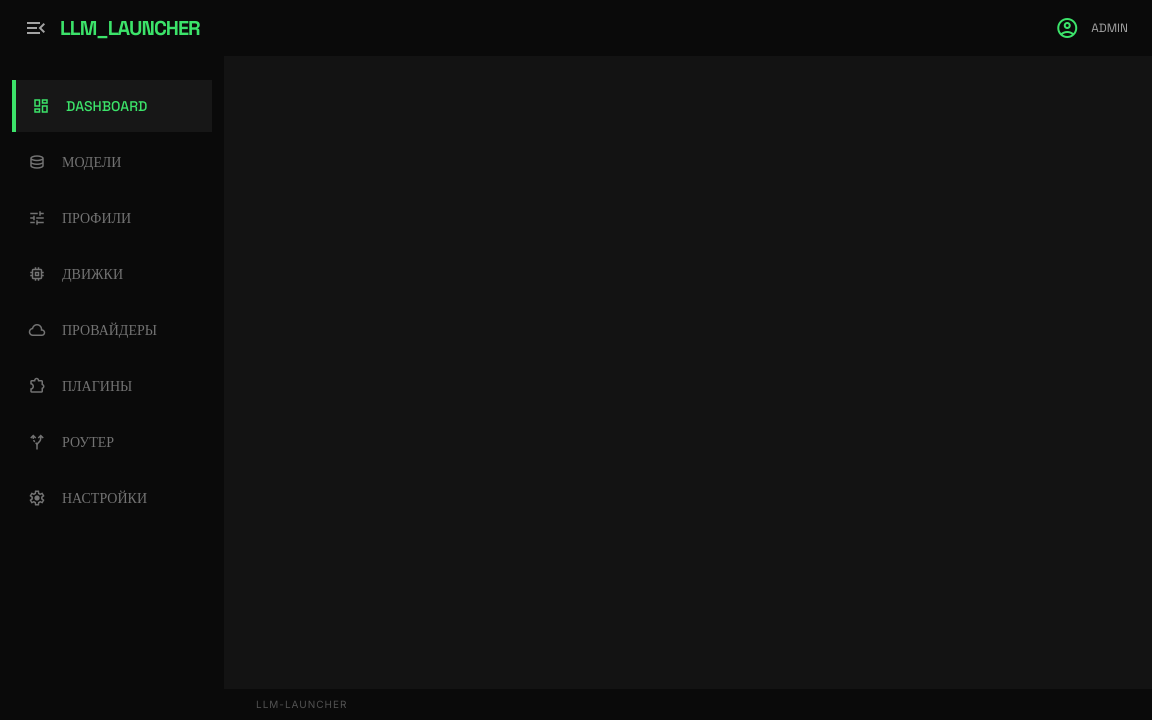
Test: Layout — сворачивание бокового меню › клик сворачивает: подписи исчезают, иконки остаются
Step 1. Click the button with test id "sidebar-toggle" → [36, 28], box x1=24 y1=16 x2=48 y2=40
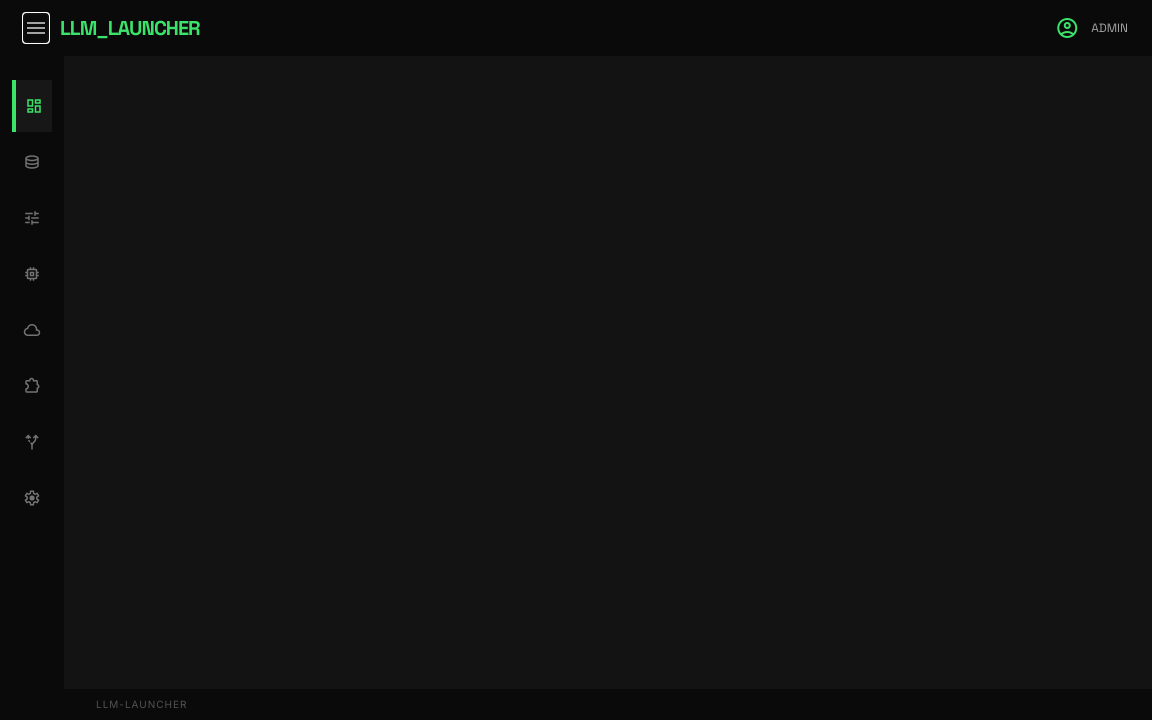
Expected: the link named "Модели" is shown, x1=23 y1=151 x2=41 y2=173
Now the link "Модели" is gone
